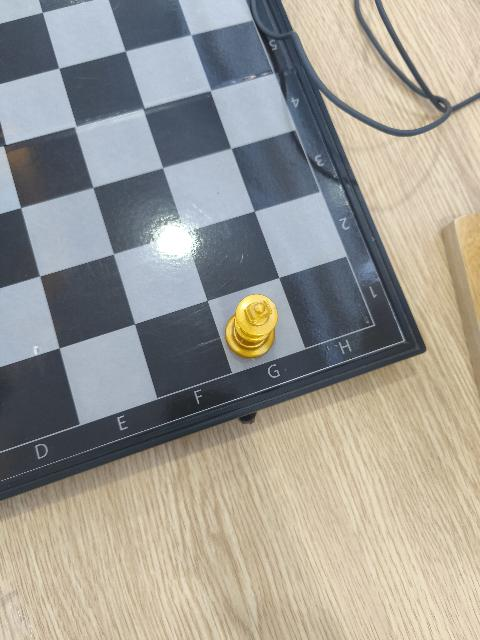black_king: (225, 294, 280, 360)
